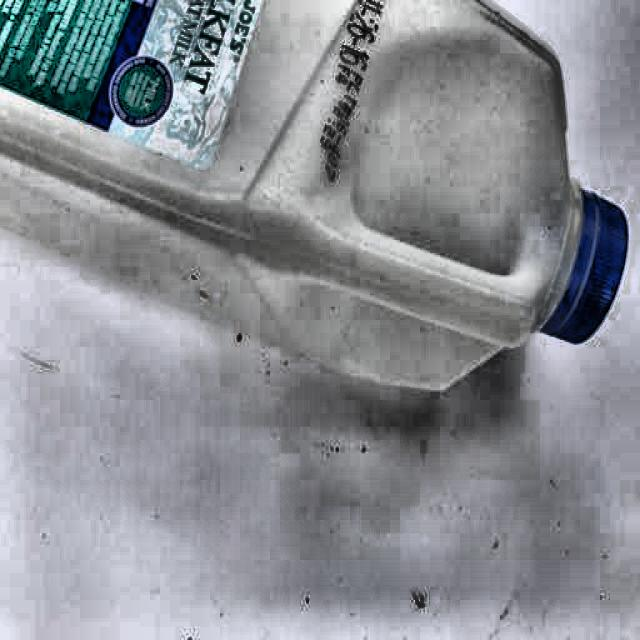plastic: (0, 0, 631, 398)
